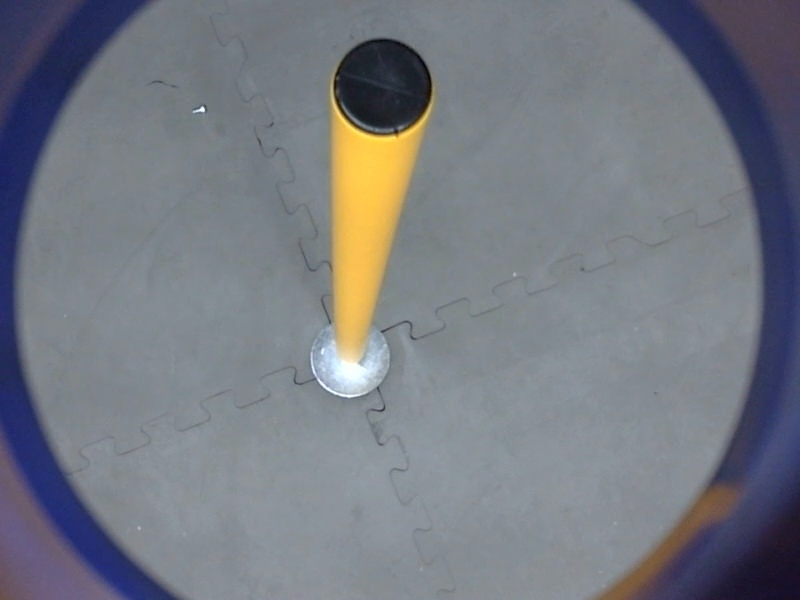tip: (321, 30, 443, 145)
